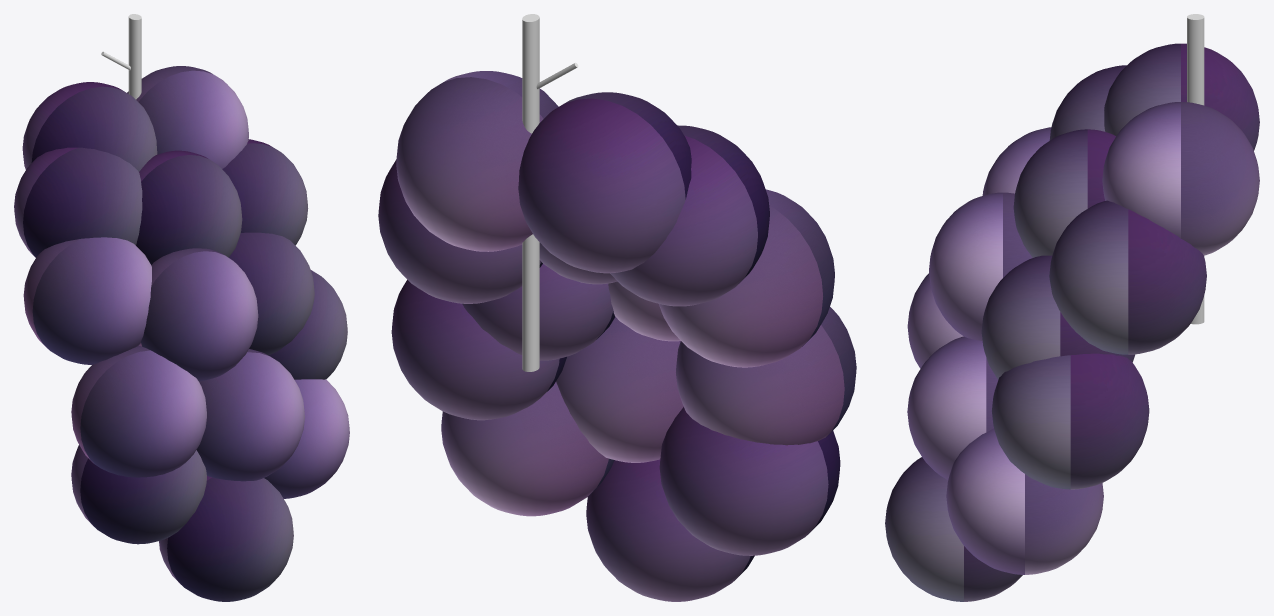
The model's file is Uvas.FBX.
3 renders of one model, left to right at view 1: azimuth 30°, elevation 25°; view 2: azimuth 150°, elevation 25°; view 3: azimuth 270°, elevation 25°, orthographic. The views are drawn at different scales.
Parts seen in each view (by area): view 1: Sphere009, Sphere002, Sphere006, Sphere005, Sphere011, Sphere007, Sphere008, Sphere013, Sphere015, Sphere012, Sphere004, Sphere010 (+3 smaller); view 2: Sphere015, Sphere012, Sphere013, Sphere002, Sphere011, Sphere009, Sphere014, Sphere003, Sphere006, Sphere007, Sphere010, Sphere004 (+3 smaller); view 3: Sphere010, Sphere003, Sphere012, Sphere014, Sphere006, Sphere005, Sphere007, Sphere008, Sphere004, Sphere015, Sphere011, Sphere009 (+2 smaller).
Boxes of the visible parts, <box> form: Sphere009: <box>71,345,206,477</box>; Sphere002: <box>23,237,151,364</box>; Sphere006: <box>159,476,293,601</box>; Sphere005: <box>139,248,258,381</box>; Sphere011: <box>14,147,142,257</box>; Sphere007: <box>196,349,304,481</box>; Sphere008: <box>136,150,242,264</box>; Sphere013: <box>71,445,206,544</box>; Sphere015: <box>22,82,157,171</box>; Sphere012: <box>127,66,248,168</box>; Sphere004: <box>229,232,314,355</box>; Sphere010: <box>222,139,308,245</box>; Sphere015: <box>518,92,691,273</box>; Sphere012: <box>396,71,558,251</box>; Sphere013: <box>659,407,840,555</box>; Sphere002: <box>659,189,834,367</box>; Sphere011: <box>610,125,769,306</box>; Sphere009: <box>676,307,856,445</box>; Sphere014: <box>441,382,614,516</box>; Sphere003: <box>391,279,566,420</box>; Sphere006: <box>586,459,754,601</box>; Sphere007: <box>556,317,683,462</box>; Sphere010: <box>378,159,542,303</box>; Sphere004: <box>462,264,615,360</box>; Sphere010: <box>1049,200,1206,354</box>; Sphere003: <box>992,353,1149,489</box>; Sphere012: <box>1102,102,1259,255</box>; Sphere014: <box>946,428,1103,574</box>; Sphere006: <box>885,457,1022,601</box>; Sphere005: <box>929,192,1032,340</box>; Sphere007: <box>907,336,998,479</box>; Sphere008: <box>1013,129,1115,257</box>; Sphere004: <box>981,255,1135,379</box>; Sphere015: <box>1104,43,1259,150</box>; Sphere011: <box>1049,65,1126,140</box>; Sphere009: <box>907,273,963,368</box>.
Size of the model in its own units: 0.1259 by 0.1136 by 0.1949.
